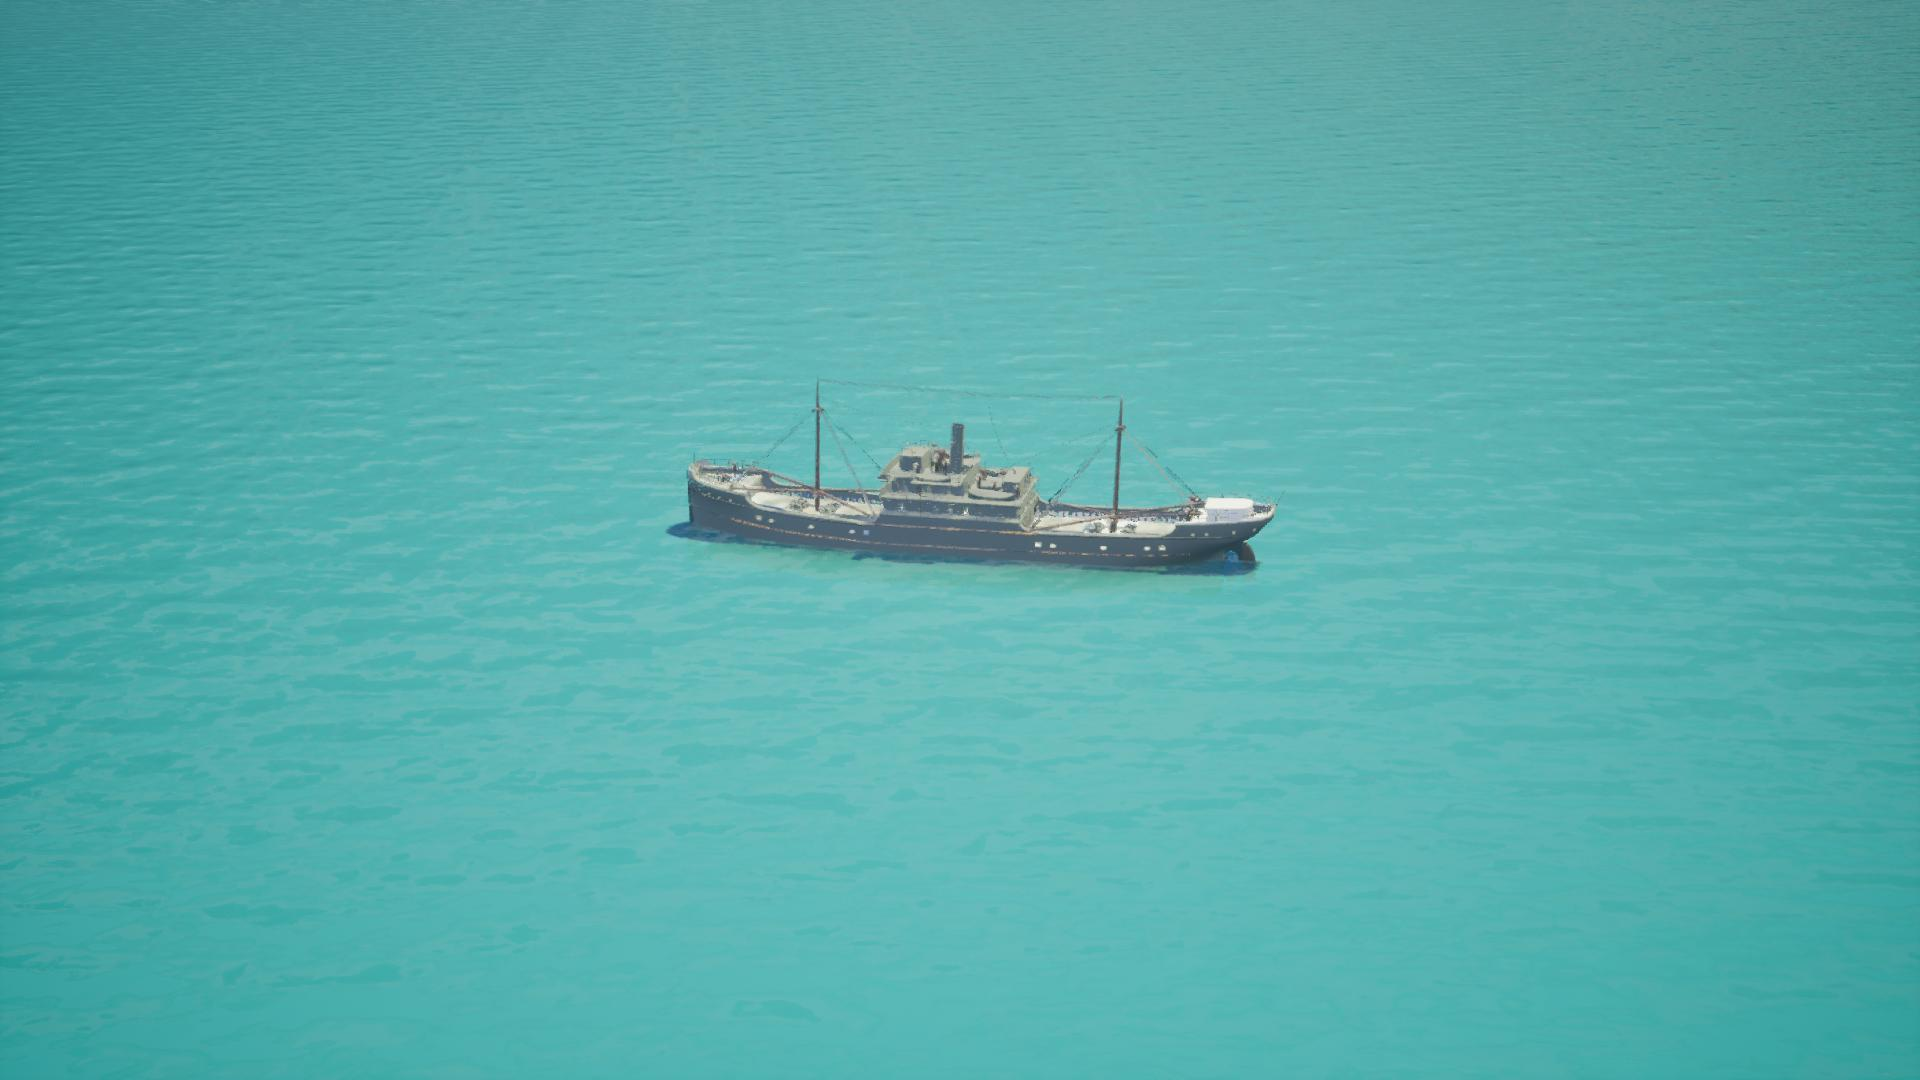Fishing Boat: (678, 392, 1273, 571)
